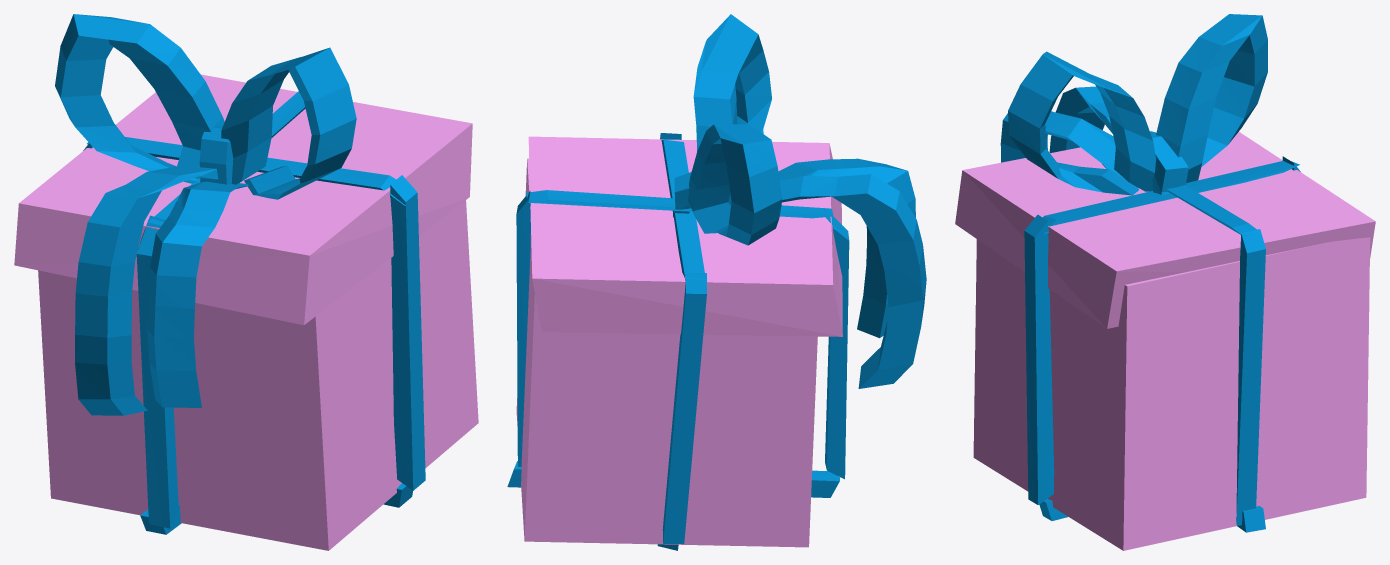
The picture shows the model from 3 angles, left to right: view 1: azimuth 30°, elevation 25°; view 2: azimuth 150°, elevation 25°; view 3: azimuth 270°, elevation 25°; orthographic projection. The views are drawn at different scales.
Visible parts, largest first — view 1: node_MeshObject103595008-PolyGem25, node_MeshObject-1330976768-PolyPaper21; view 2: node_MeshObject103595008-PolyGem25, node_MeshObject-1330976768-PolyPaper21; view 3: node_MeshObject103595008-PolyGem25, node_MeshObject-1330976768-PolyPaper21.
Part boxes in pixels (x1,y1,x2,y2): node_MeshObject103595008-PolyGem25: [14, 74, 478, 550]; node_MeshObject-1330976768-PolyPaper21: [55, 14, 425, 534]; node_MeshObject103595008-PolyGem25: [516, 136, 842, 547]; node_MeshObject-1330976768-PolyPaper21: [507, 14, 926, 550]; node_MeshObject103595008-PolyGem25: [955, 132, 1375, 550]; node_MeshObject-1330976768-PolyPaper21: [1000, 14, 1300, 532].
Size of the model in its own units: 1.64 by 1.76 by 1.55.
